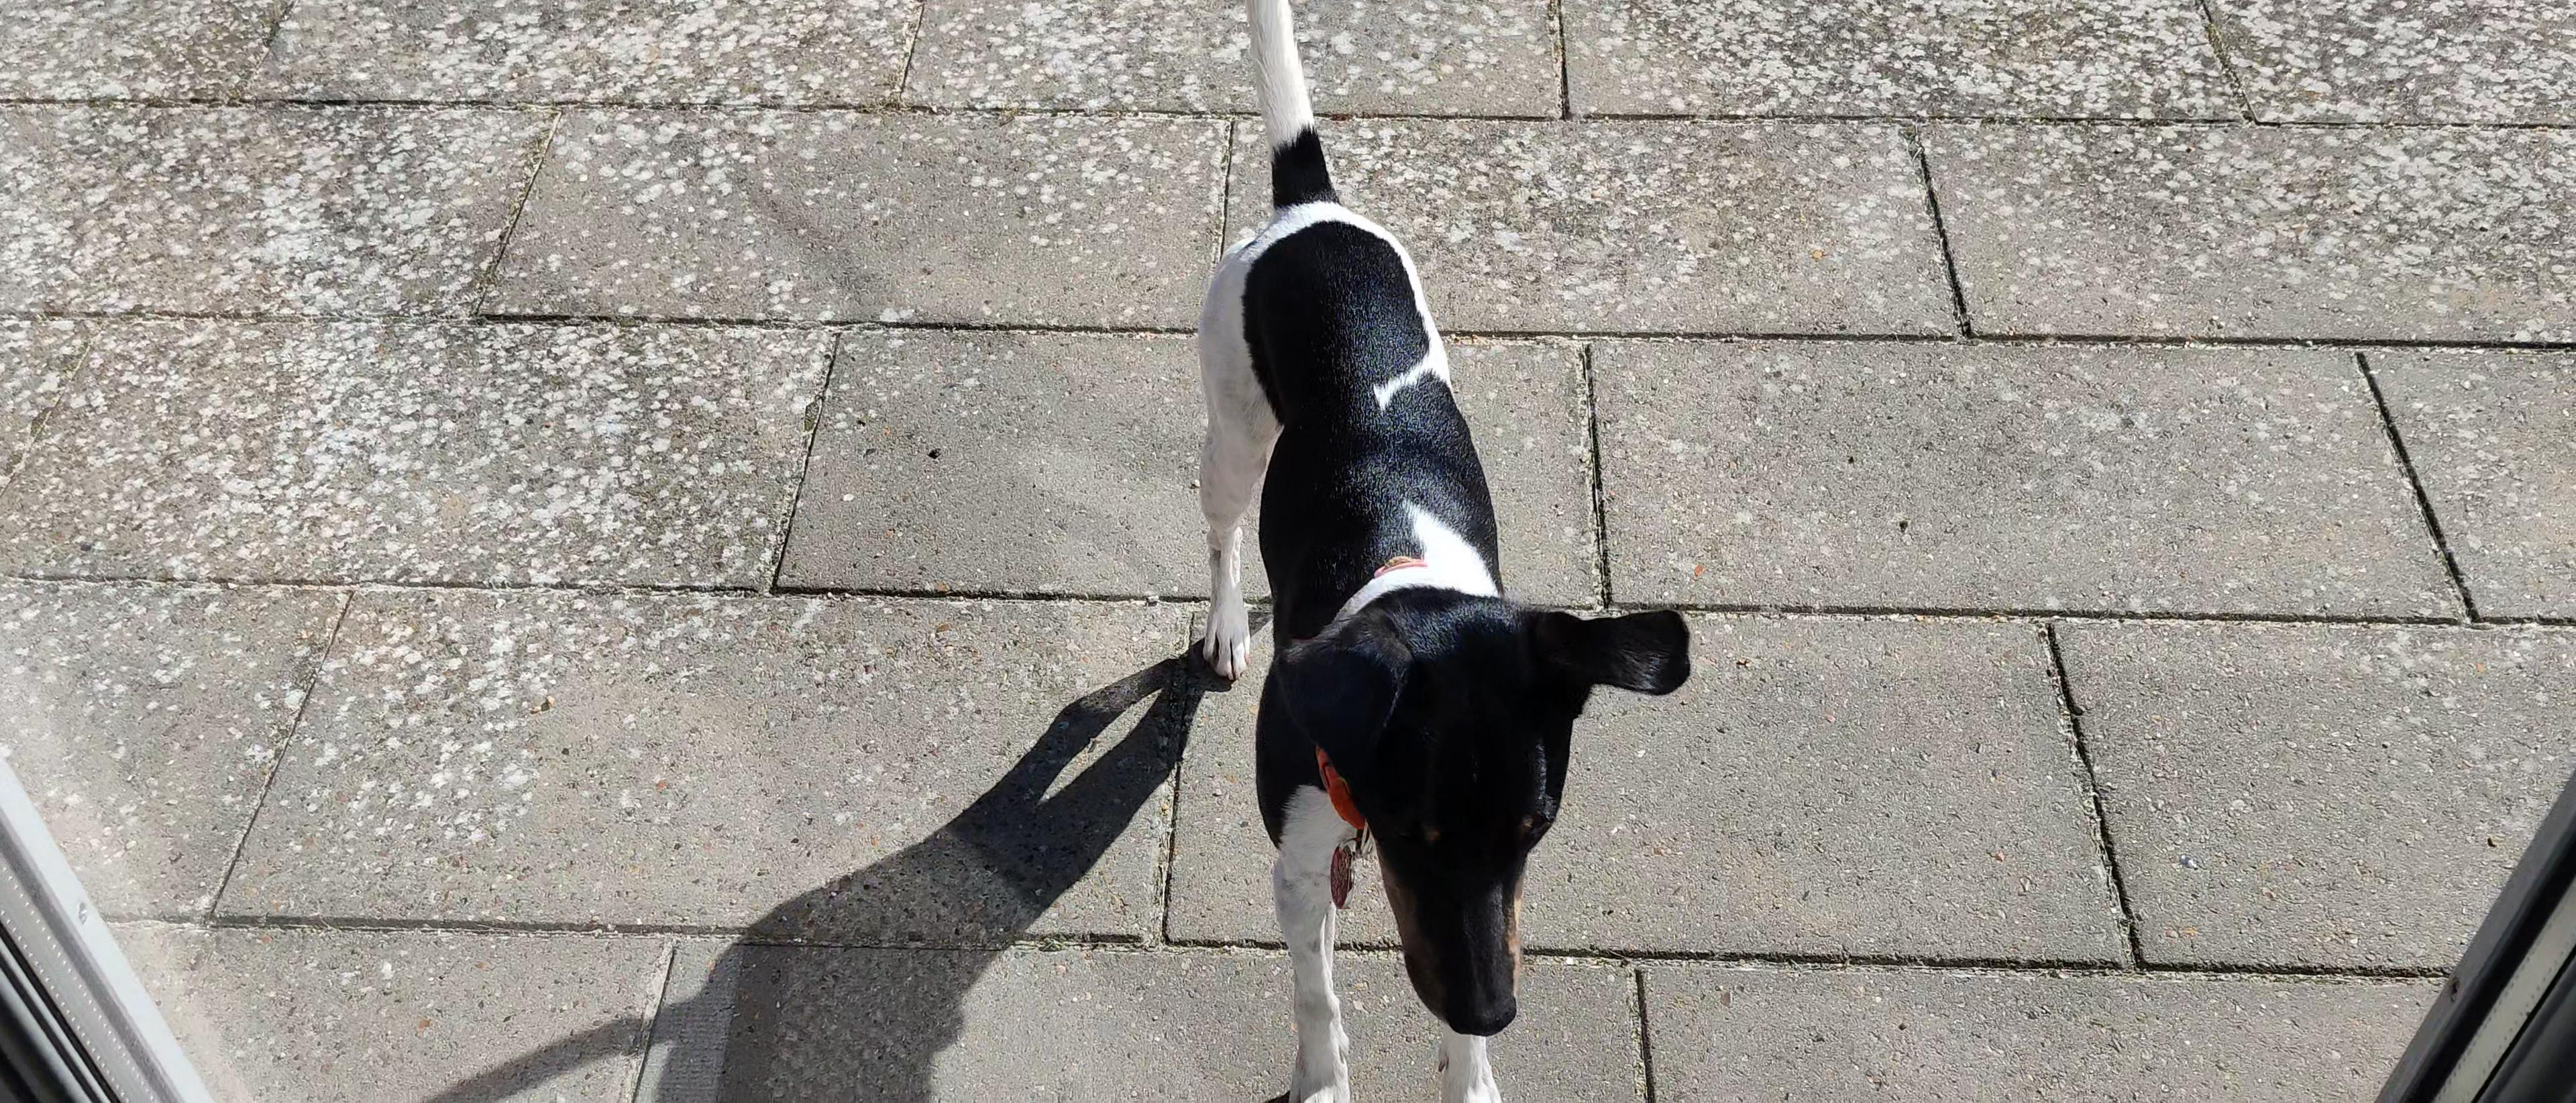Dog: (1142, 0, 1707, 1103)
